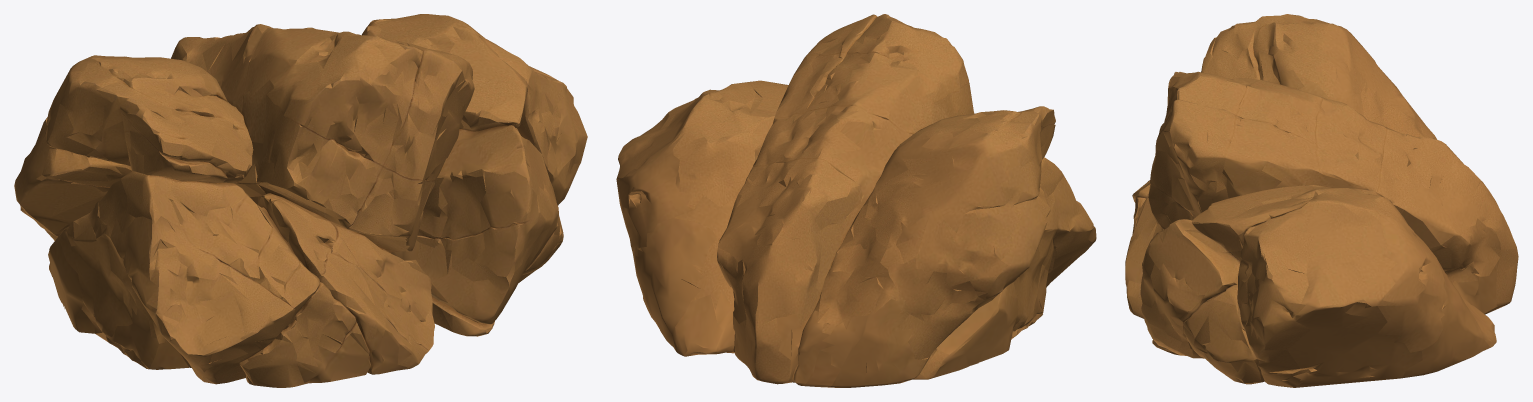
File: web.glb
The picture shows the model from 3 angles, left to right: view 1: azimuth 30°, elevation 25°; view 2: azimuth 150°, elevation 25°; view 3: azimuth 270°, elevation 25°; orthographic projection. The views are drawn at different scales.
Parts seen in each view (by area): view 1: output_unwrapped; view 2: output_unwrapped; view 3: output_unwrapped.
Part boxes in pixels (x1,y1,x2,y2): output_unwrapped: (14,14,587,387); output_unwrapped: (616,14,1096,387); output_unwrapped: (1125,14,1518,387).
Bounding box in the file's own units: 1.9 × 1.04 × 1.55.
Materials: 1 (1 with a texture image).
